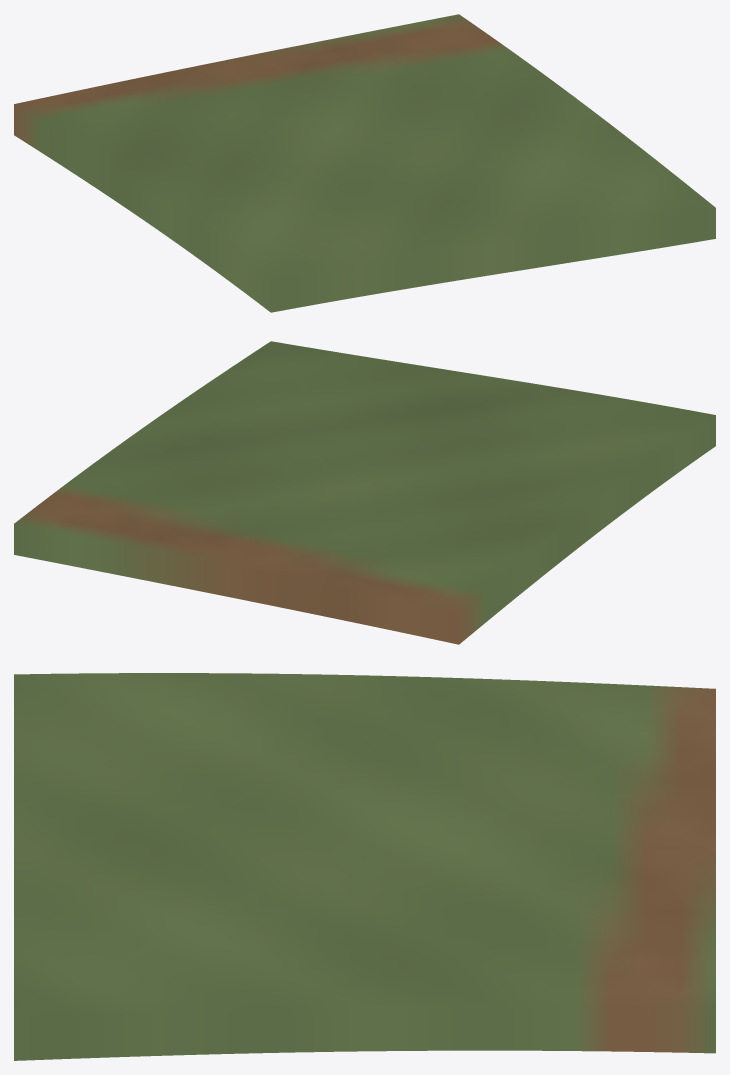
3 views of the same model, one above another, from view 1: azimuth 30°, elevation 25°; view 2: azimuth 150°, elevation 25°; view 3: azimuth 270°, elevation 25° (orthographic). The views are drawn at different scales.
Visible parts, largest first — view 1: terrain; view 2: terrain; view 3: terrain.
Boxes of the visible parts, box(x1,y1,x2,y2) form: terrain: box(14, 14, 715, 312); terrain: box(14, 341, 715, 644); terrain: box(14, 673, 715, 1060).
Bounding box in the file's own units: 30 × 4.3 × 30.
